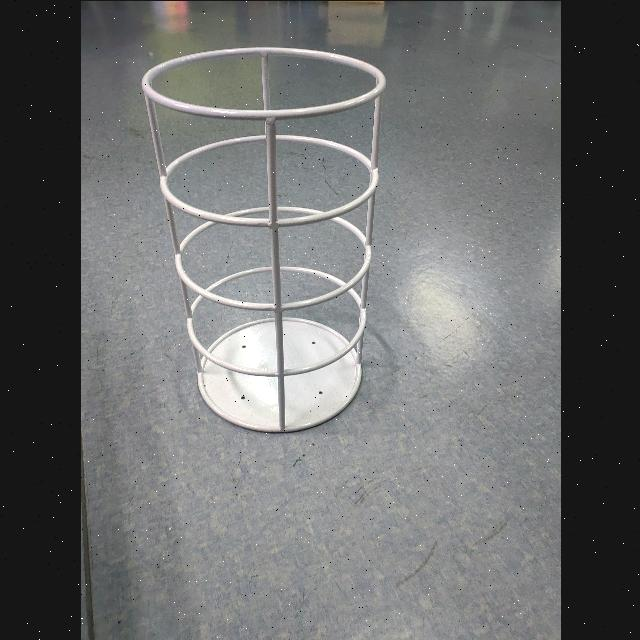S: (135, 37, 393, 441)
